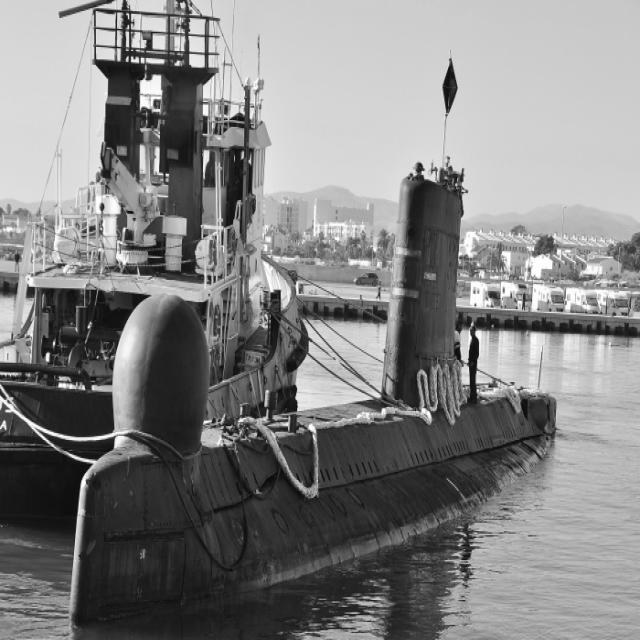submarine: (72, 182, 561, 619)
